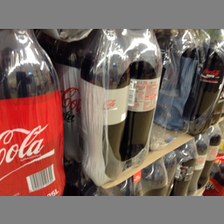soda: (2, 29, 66, 194), (79, 29, 131, 186), (121, 29, 163, 170)
